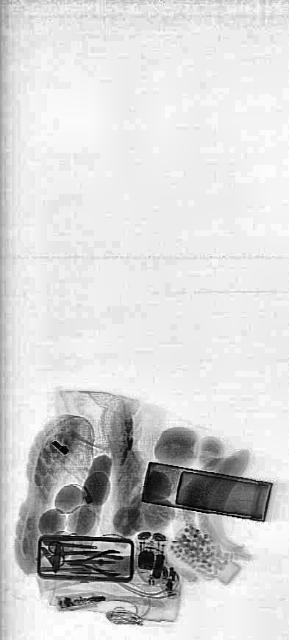Pliers: (64, 546, 120, 578)
Scissors: (47, 536, 98, 568)
